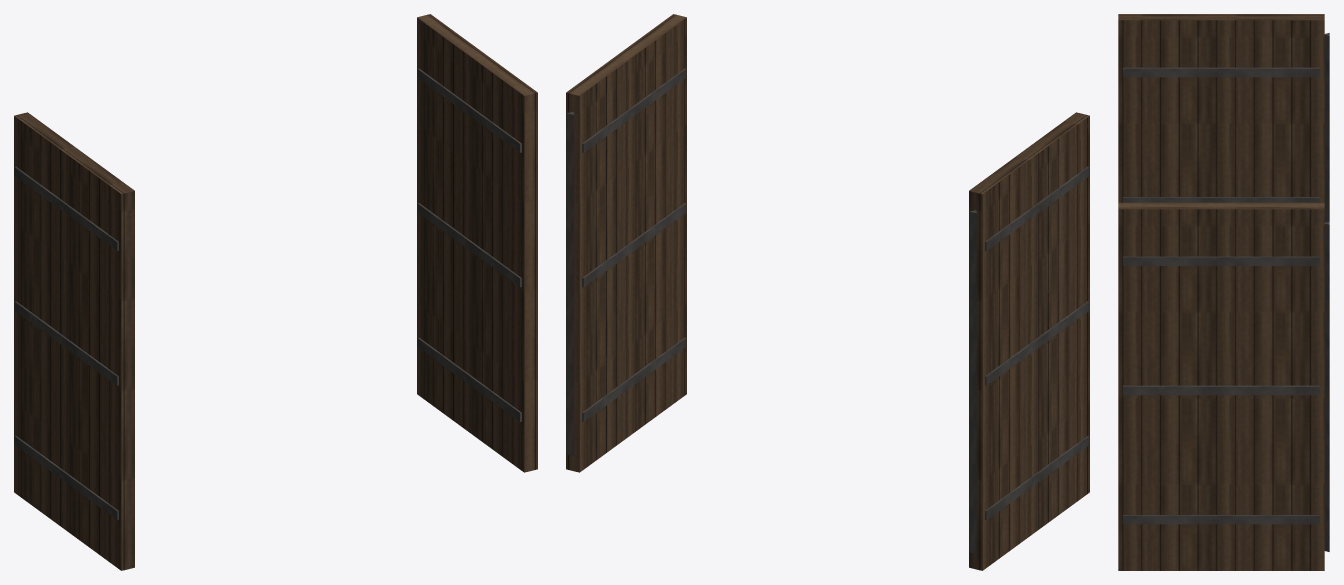
The model's file is Gate_City_Iron_1_LOD2.gltf.
3 views of the same model, side by side, from view 1: azimuth 30°, elevation 25°; view 2: azimuth 150°, elevation 25°; view 3: azimuth 270°, elevation 25° (orthographic). The views are drawn at different scales.
Visible parts, largest first — view 1: Gate_City_Iron_1_LOD2; view 2: Gate_City_Iron_1_LOD2; view 3: Gate_City_Iron_1_LOD2.
Part boxes in pixels (bbox=[...]): Gate_City_Iron_1_LOD2: bbox=[14, 14, 537, 570]; Gate_City_Iron_1_LOD2: bbox=[566, 14, 1089, 570]; Gate_City_Iron_1_LOD2: bbox=[1118, 14, 1329, 570].
Size of the model in its own units: 4.9 by 4.2 by 2.23.
2 materials, 2 textured.
